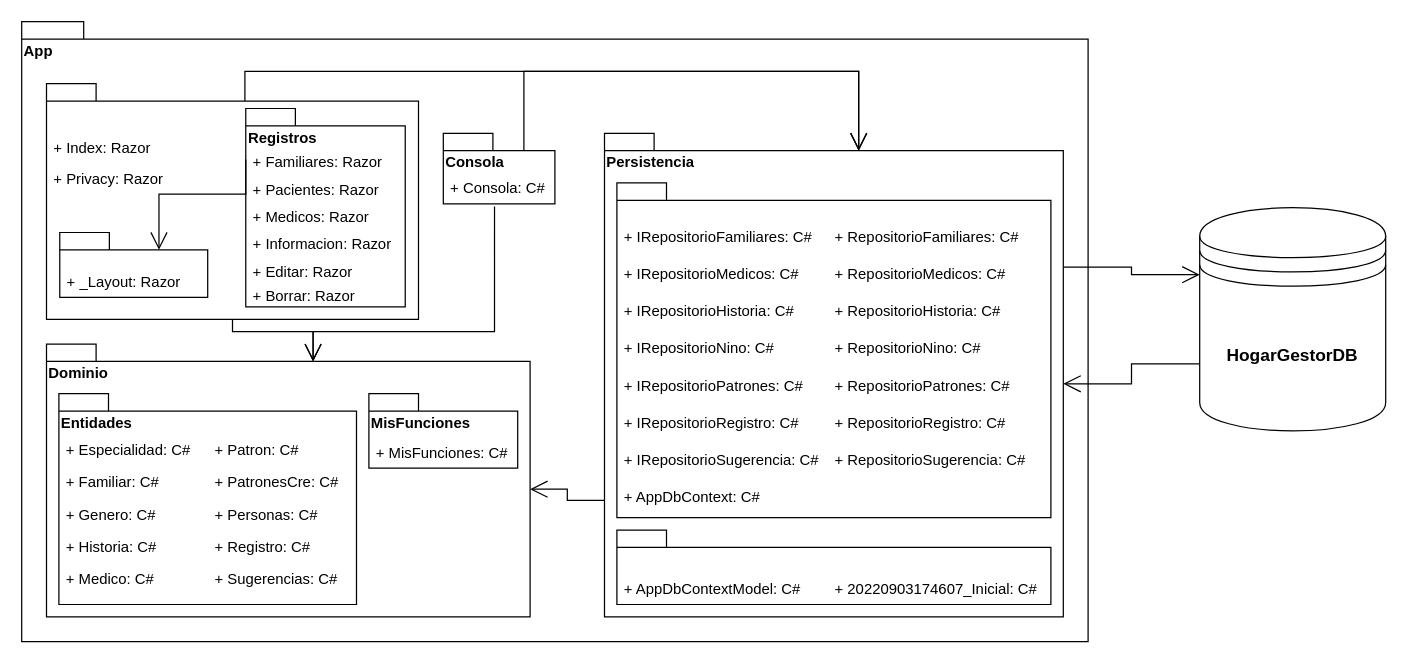
Some shapes in this 1407 by 663 pixel diagram are drawn without their labels. Each missing label, with the box of its shape:
AppRepositorios: (616, 182, 1051, 518)
Frontend: (45, 82, 418, 319)
Migrations: (616, 529, 1051, 604)
Shared: (59, 231, 208, 297)
